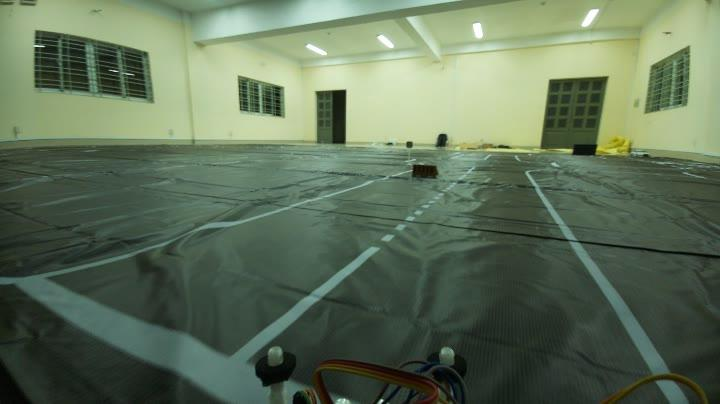roadblock: (408, 161, 440, 185)
